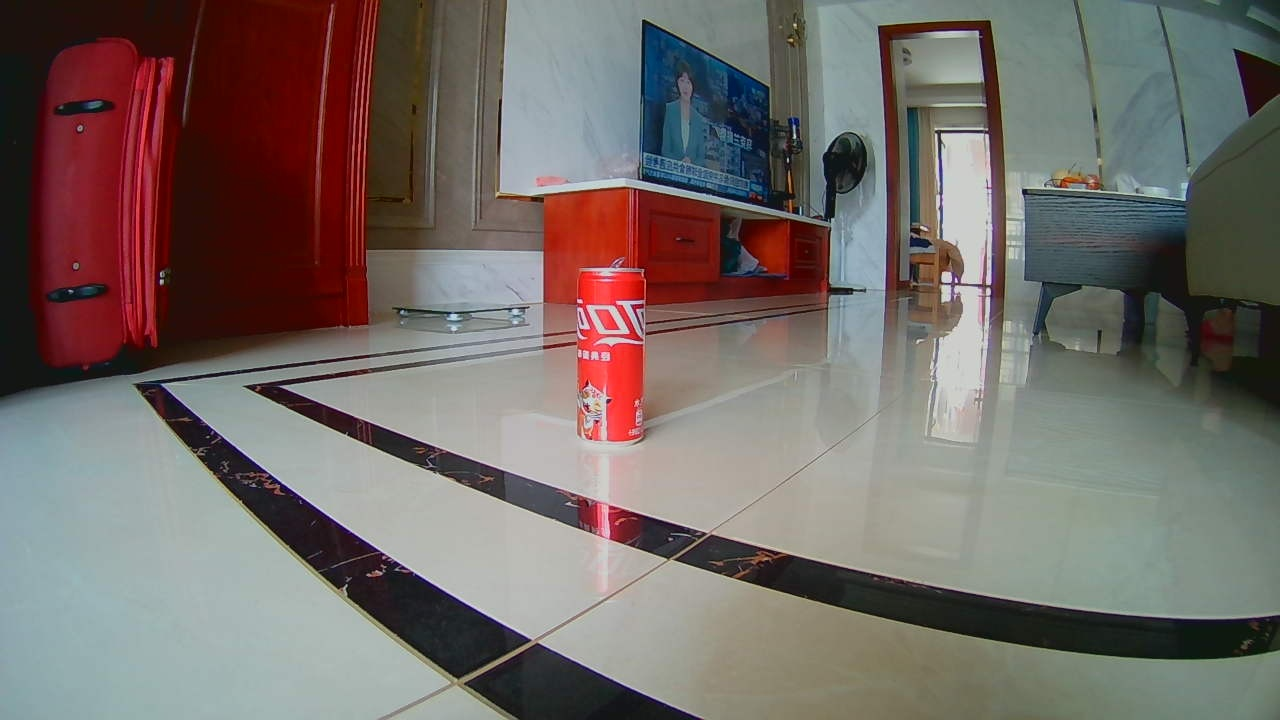cola: (580, 261, 653, 445)
